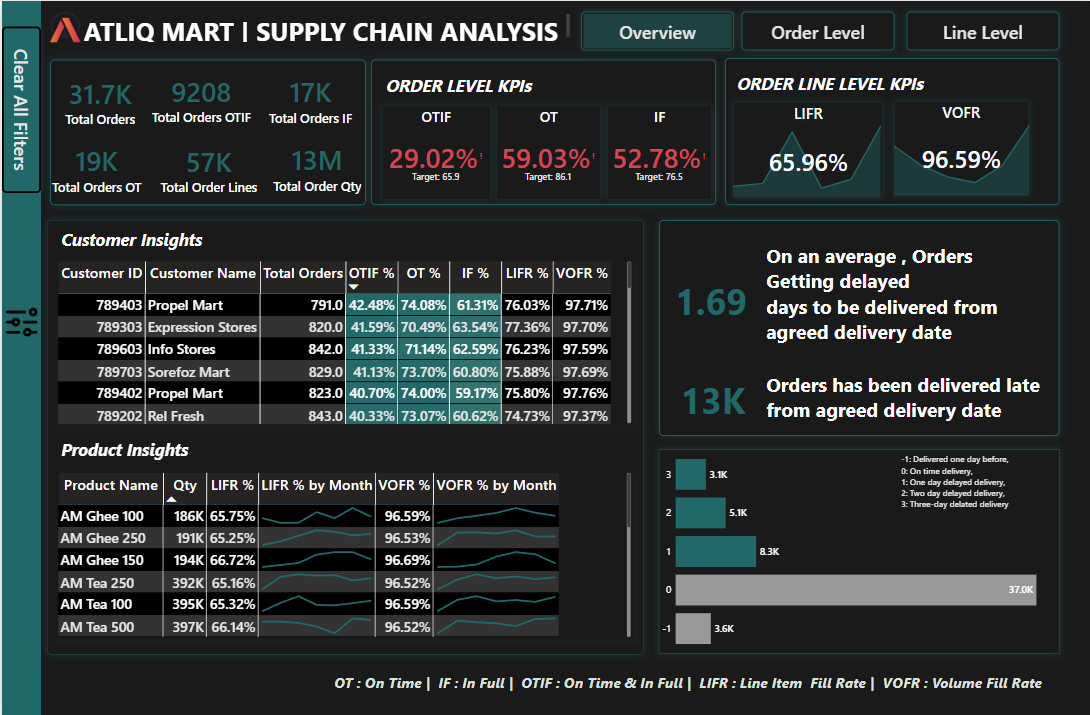

The dashboard page shown, as its layout file describes it:
{"tool":"powerbi","page":{"name":"Page 1","canvas":[2425,1600],"ordinal":0},"visuals":[{"type":"shape","box":[108,130,702,324],"z":0},{"type":"kpi","title":"OTIF","fields":{"TrendLine":["fact_order_lines.customer_id"],"Indicator":["DAX.OTIF %"],"Goal":["DAX.Avg OTIF Target"]},"box":[845,232.5,237.5,207.5],"z":0,"group":"g1"},{"type":"areaChart","fields":{"Y":["DAX.LIFR %"],"Category":["dim_date.Month Name"]},"box":[1592.5,250,390,187.5],"z":0,"group":"g2"},{"type":"card","fields":{"Values":["DAX.Total Orders"]},"box":[118,158,202,128],"z":1000},{"type":"card","title":"LIFR","fields":{"Values":["DAX.LIFR %"]},"box":[1625,225,330,210],"z":1000,"group":"g2"},{"type":"kpi","title":"OT ","fields":{"TrendLine":["fact_order_lines.customer_id"],"Indicator":["DAX.OT %"],"Goal":["DAX.Avg On-Time Target"]},"box":[1097.5,232.5,230,207.5],"z":1000,"group":"g1"},{"type":"kpi","title":"IF","fields":{"TrendLine":["fact_order_lines.customer_id"],"Indicator":["DAX.IF %"],"Goal":["DAX.Avg In-Full Target"]},"box":[1345,232.5,230,207.5],"z":2000,"group":"g1"},{"type":"shape","box":[100,485,1325,965],"z":2000},{"type":"card","fields":{"Values":["DAX.Total Orders OTIF"]},"box":[320,147.5,245,140],"z":3000},{"type":"shape","box":[0,0,86.7,1600],"z":4000},{"type":"card","fields":{"Values":["DAX.Total Orders IF"]},"box":[583,152.5,204,128],"z":5000},{"type":"image","box":[0,663.3,86.7,100],"z":6000},{"type":"card","fields":{"Values":["DAX.Total Orders OT"]},"box":[100,302.5,220,135],"z":7000},{"type":"card","fields":{"Values":["DAX.ADDD"]},"box":[1490,597.5,170,130],"z":8000},{"type":"card","fields":{"Values":["DAX.Total Order Lines"]},"box":[337.5,302.5,245,137.5],"z":9000},{"type":"card","fields":{"Values":["DAX.Delayed orders count"]},"box":[1472.5,830,212.5,105],"z":10000},{"type":"card","fields":{"Values":["DAX.Total Quantity Ordered"]},"box":[595,302.5,207.1,130],"z":11000},{"type":"textbox","box":[1692.5,530,600,265],"z":12000},{"type":"textbox","box":[1692.5,817.5,632.5,150],"z":13000},{"type":"areaChart","fields":{"Category":["dim_date.Month Name"],"Y":["DAX.VOFR %"]},"box":[1952.5,247.5,357.5,190],"z":14000},{"type":"shape","box":[1606.7,126.7,743.3,326.7],"z":15000},{"type":"shape","box":[820,130,766.7,323.3],"z":16000},{"type":"card","title":"VOFR","fields":{"Values":["DAX.VOFR %"]},"box":[1983.3,223.3,296.7,206.7],"z":17000},{"type":"textbox","box":[845,155,355,62.5],"z":18000},{"type":"textbox","box":[1625,152.5,465,65],"z":19000},{"type":"group","id":"g1","title":"Group 2","box":[845,232.5,730,207.5],"z":20000},{"type":"group","id":"g2","title":"Group 3","box":[1592.5,225,390,212.5],"z":21000},{"type":"tableEx","fields":{"Values":["dim_customers.customer_id","dim_customers.customer_name","DAX.Total Orders","DAX.OTIF %","DAX.OT %","DAX.IF %","DAX.LIFR %","DAX.VOFR %"]},"box":[120,573.3,1283.3,370],"z":22000},{"type":"tableEx","fields":{"Values":["dim_products.product_name","DAX.Total Quantity Ordered","DAX.LIFR %","SparklineData(DAX.LIFR %_[dim_date.Month Name])","DAX.VOFR %","SparklineData(DAX.VOFR %_[dim_date.Month Name])"]},"box":[120,1042.5,1282.5,375],"z":23000},{"type":"clusteredBarChart","fields":{"Category":["fact_order_lines.Day Delay"],"Y":["CountNonNull(fact_order_lines.order_id)"]},"box":[1460,996.7,890,453.3],"z":24000},{"type":"textbox","box":[1994.3,998.6,250,157.1],"z":25000},{"type":"textbox","box":[126.7,500,423.3,60],"z":26000},{"type":"textbox","box":[126.7,966.7,396.7,76.7],"z":27000},{"type":"image","box":[86.7,16.7,110,80],"z":28000},{"type":"textbox","box":[176.7,21.7,1090,71.7],"z":29000},{"type":"actionButton","box":[0,56.7,86.7,370],"z":30000},{"type":"shape","box":[1460,486.7,890,480],"z":32000},{"type":"actionButton","box":[1286.7,23.3,340,86.7],"z":33000},{"type":"actionButton","box":[1643.3,23.3,340,86.7],"z":34000},{"type":"actionButton","box":[2010,23.3,340,86.7],"z":35000},{"type":"textbox","box":[733.3,1486.7,1616.7,56.7],"z":36000}]}

Visuals, with their boxes in screenshot pixels (x1, y1, x2, y2), scaled from the page's 2425x1600 canvas onto the 1090x715 screenshot:
shape: bbox=[49, 58, 364, 203]
"OTIF" kpi: bbox=[380, 104, 487, 197]
areaChart - DAX.LIFR % x dim_date.Month Name: bbox=[716, 112, 891, 196]
card - DAX.Total Orders: bbox=[53, 71, 144, 128]
"LIFR" card: bbox=[730, 101, 879, 194]
"OT " kpi: bbox=[493, 104, 597, 197]
"IF" kpi: bbox=[605, 104, 708, 197]
shape: bbox=[45, 217, 641, 648]
card - DAX.Total Orders OTIF: bbox=[144, 66, 254, 128]
shape: bbox=[0, 0, 39, 714]
card - DAX.Total Orders IF: bbox=[262, 68, 354, 125]
image: bbox=[0, 296, 39, 341]
card - DAX.Total Orders OT: bbox=[45, 135, 144, 196]
card - DAX.ADDD: bbox=[670, 267, 746, 325]
card - DAX.Total Order Lines: bbox=[152, 135, 262, 197]
card - DAX.Delayed orders count: bbox=[662, 371, 757, 418]
card - DAX.Total Quantity Ordered: bbox=[267, 135, 361, 193]
textbox: bbox=[761, 237, 1030, 355]
textbox: bbox=[761, 365, 1045, 432]
areaChart - dim_date.Month Name x DAX.VOFR %: bbox=[878, 111, 1038, 196]
shape: bbox=[722, 57, 1056, 203]
shape: bbox=[369, 58, 713, 203]
"VOFR" card: bbox=[891, 100, 1025, 192]
textbox: bbox=[380, 69, 539, 97]
textbox: bbox=[730, 68, 939, 97]
"Group 2" group: bbox=[380, 104, 708, 197]
"Group 3" group: bbox=[716, 101, 891, 196]
tableEx - dim_customers.customer_id x dim_customers.customer_name: bbox=[54, 256, 631, 422]
tableEx - dim_products.product_name x DAX.Total Quantity Ordered: bbox=[54, 466, 630, 633]
clusteredBarChart - fact_order_lines.Day Delay x CountNonNull(fact_order_lines.order_id): bbox=[656, 445, 1056, 648]
textbox: bbox=[896, 446, 1009, 516]
textbox: bbox=[57, 223, 247, 250]
textbox: bbox=[57, 432, 235, 466]
image: bbox=[39, 7, 88, 43]
textbox: bbox=[79, 10, 569, 42]
actionButton: bbox=[0, 25, 39, 191]
shape: bbox=[656, 217, 1056, 432]
actionButton: bbox=[578, 10, 731, 49]
actionButton: bbox=[739, 10, 891, 49]
actionButton: bbox=[903, 10, 1056, 49]
textbox: bbox=[330, 664, 1056, 690]
